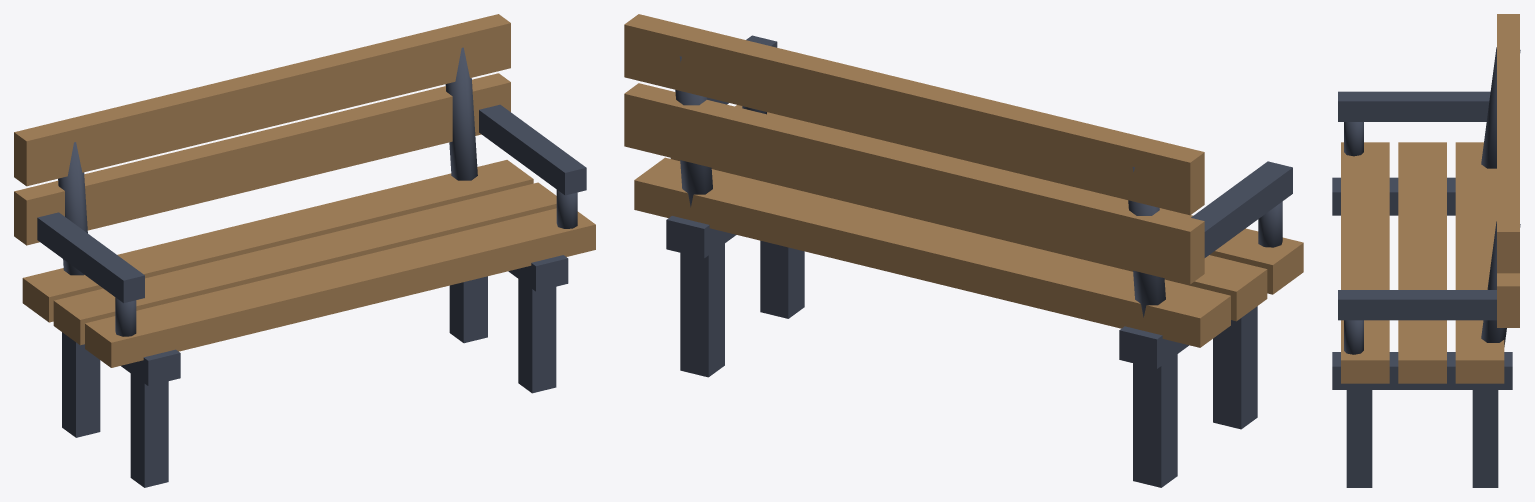
File: bench.glb
The picture shows the model from 3 angles, left to right: view 1: azimuth 30°, elevation 25°; view 2: azimuth 150°, elevation 25°; view 3: azimuth 270°, elevation 25°; orthographic projection. The views are drawn at different scales.
Parts seen in each view (by area): view 1: Bench_oak_back.001, Bench_oak_seat, Bench_oak_back, Bench_oak_seat.001, Bench_oak_seat.002, Bench_iron_arm.001, Bench_iron_arm, Bench_iron_leg, Bench_iron_leg.002, Bench_iron_leg.001, Bench_back_support.001, Bench_iron_leg.003 (+5 smaller); view 2: Bench_oak_back.001, Bench_oak_back, Bench_oak_seat.002, Bench_iron_leg.001, Bench_iron_leg.003, Bench_iron_leg, Bench_iron_arm, Bench_oak_seat, Bench_oak_seat.001, Bench_iron_leg.002, Bench_seat_bracket.001, Bench_seat_bracket (+3 smaller); view 3: Bench_oak_seat.001, Bench_oak_seat, Bench_oak_seat.002, Bench_oak_back.001, Bench_iron_arm.001, Bench_iron_arm, Bench_iron_leg.002, Bench_iron_leg.003, Bench_seat_bracket.001, Bench_oak_back, Bench_seat_bracket, Bench_back_support (+3 smaller).
Part boxes in pixels (x1,y1,x2,y2): Bench_oak_back.001: (14,14,510,186); Bench_oak_seat: (85,208,595,367); Bench_oak_back: (14,73,510,245); Bench_oak_seat.001: (53,182,556,345); Bench_oak_seat.002: (22,160,533,322); Bench_iron_arm.001: (479,104,586,195); Bench_iron_arm: (37,212,144,303); Bench_iron_leg: (130,373,168,487); Bench_iron_leg.002: (518,279,556,393); Bench_iron_leg.001: (62,332,100,437); Bench_back_support.001: (445,47,477,180); Bench_iron_leg.003: (449,276,487,343); Bench_oak_back.001: (624,14,1204,215); Bench_oak_back: (624,83,1204,284); Bench_oak_seat.002: (634,157,1230,347); Bench_iron_leg.001: (1133,354,1177,487); Bench_iron_leg.003: (680,243,724,377); Bench_iron_leg: (1213,306,1257,429); Bench_iron_arm: (1191,161,1292,257); Bench_oak_seat: (735,105,1303,294); Bench_oak_seat.001: (670,158,1267,321); Bench_iron_leg.002: (760,240,804,318); Bench_seat_bracket.001: (666,216,736,258); Bench_seat_bracket: (1119,326,1188,368); Bench_oak_seat.001: (1398,142,1446,383); Bench_oak_seat: (1341,142,1389,383); Bench_oak_seat.002: (1455,142,1504,383); Bench_oak_back.001: (1497,14,1519,273); Bench_iron_arm.001: (1338,290,1496,320); Bench_iron_arm: (1338,91,1490,121); Bench_iron_leg.002: (1346,390,1372,487); Bench_iron_leg.003: (1472,390,1498,487); Bench_seat_bracket.001: (1332,352,1512,389); Bench_oak_back: (1497,273,1519,327); Bench_seat_bracket: (1332,177,1455,215); Bench_back_support: (1481,47,1520,168).
Size of the model in its own units: 1.8 by 1.05 by 0.6572.
